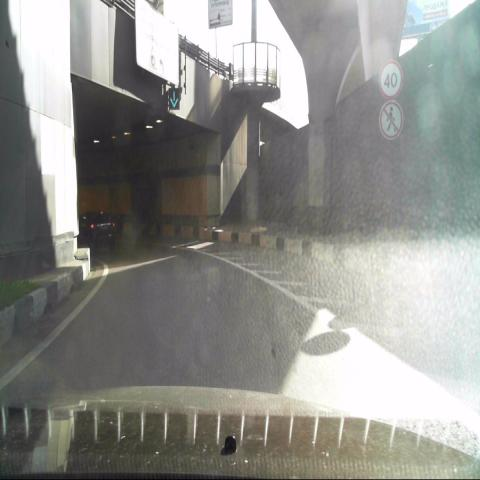3_10: (379, 98, 404, 140)
